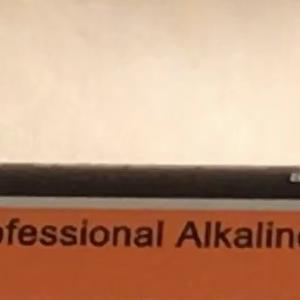ALK: (165, 211, 233, 258)
